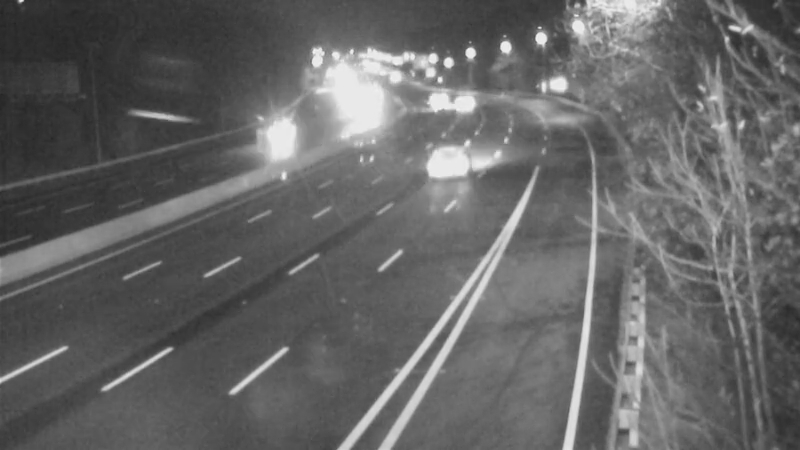vehicle: (404, 121, 484, 201), (408, 72, 458, 122), (438, 81, 488, 131), (257, 115, 307, 165)
